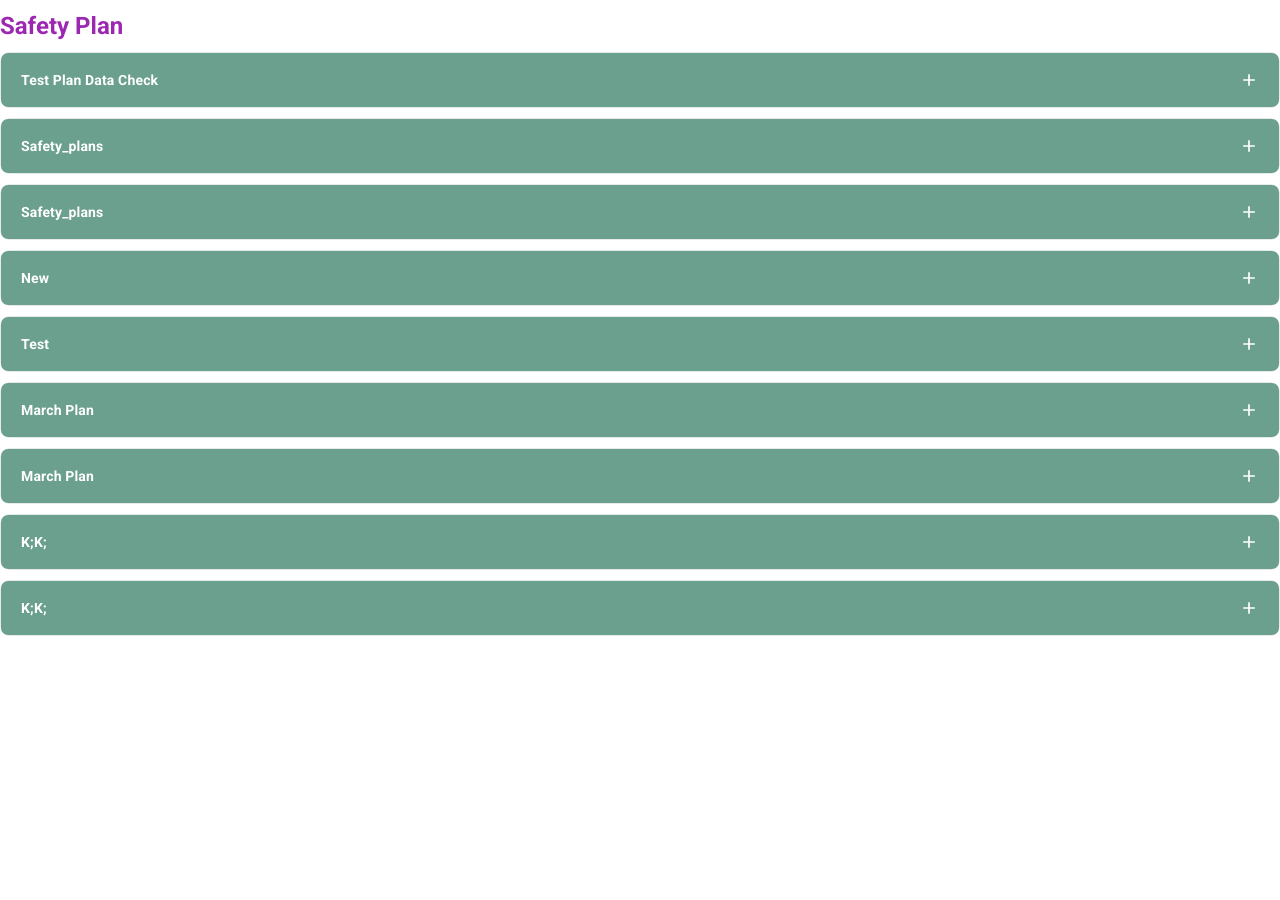
Patient Safety plans › Cancle relapse plan data
Click the icon with test id "toggleContent" in the row of "Test Plan Data check": {"x": 1249, "y": 80} [1239,70,1259,90]
(page scrolled)
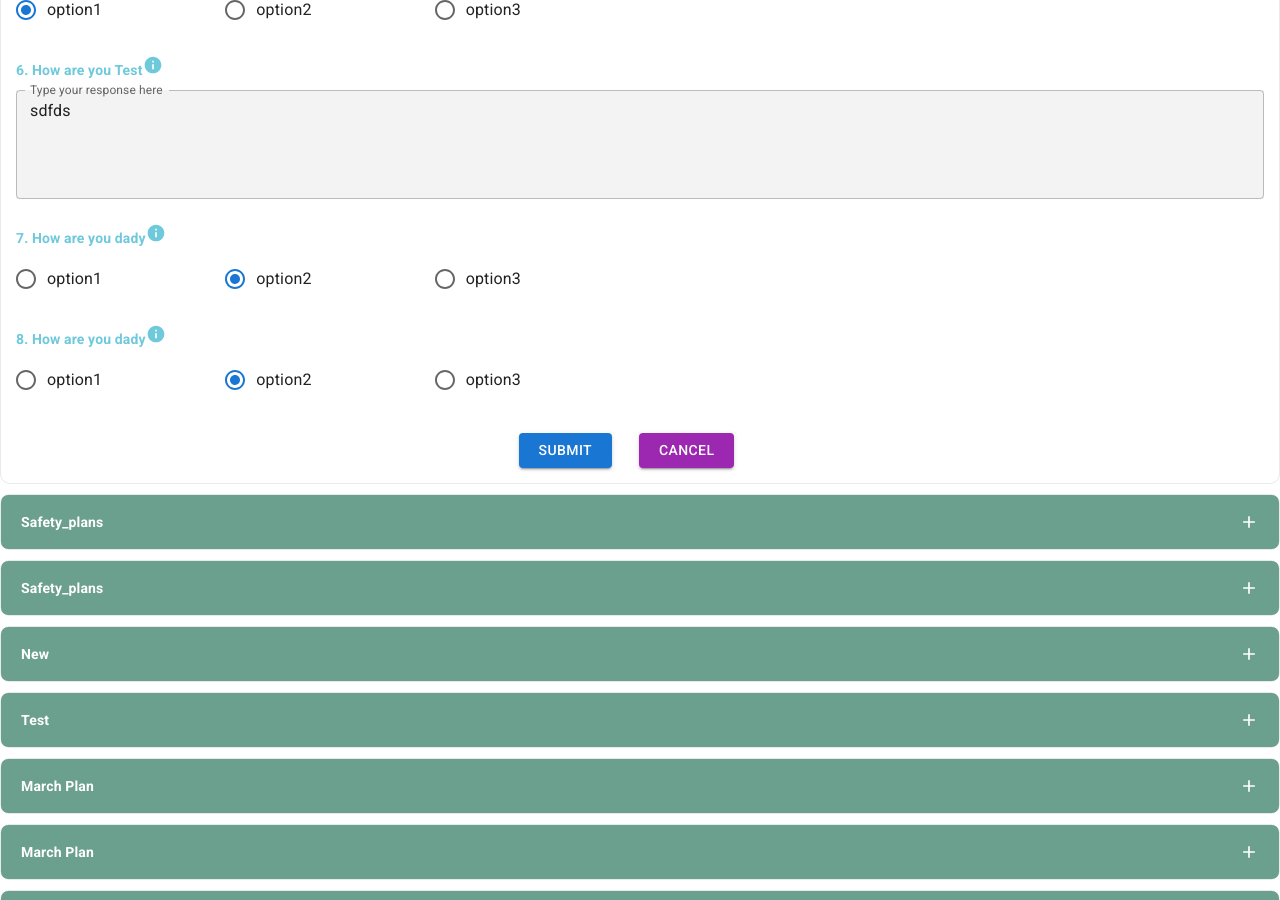
Expected: the button with test id "cancel-form" is shown
Click the button with test id "cancel-form": {"x": 687, "y": 450} [639,433,734,468]
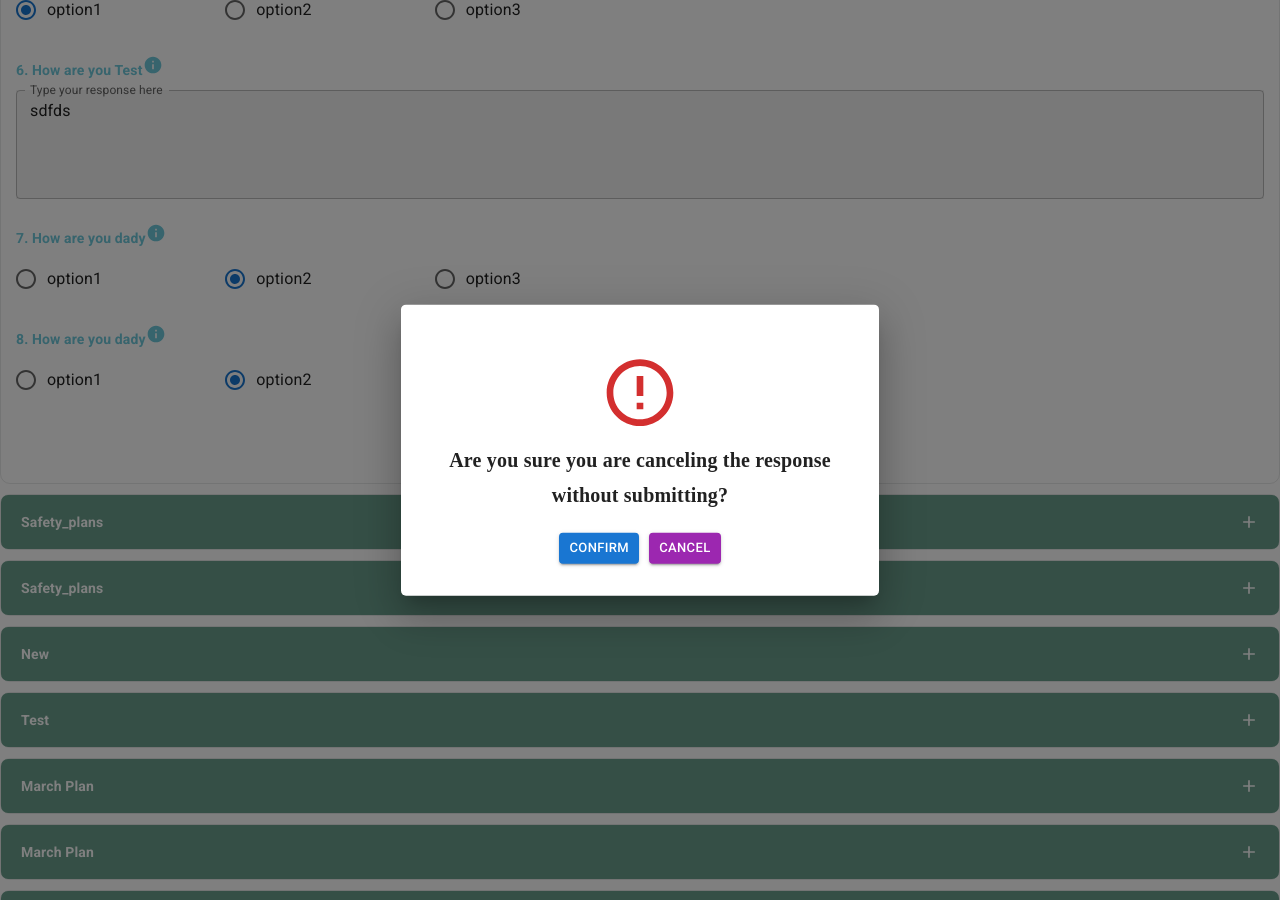
Expected: the heading "Are you sure you are canceling the response without submitting?" is shown, [433,443,847,513]
Click the button with test id "confirmButton": {"x": 599, "y": 548} [560,533,639,563]
(page scrolled)
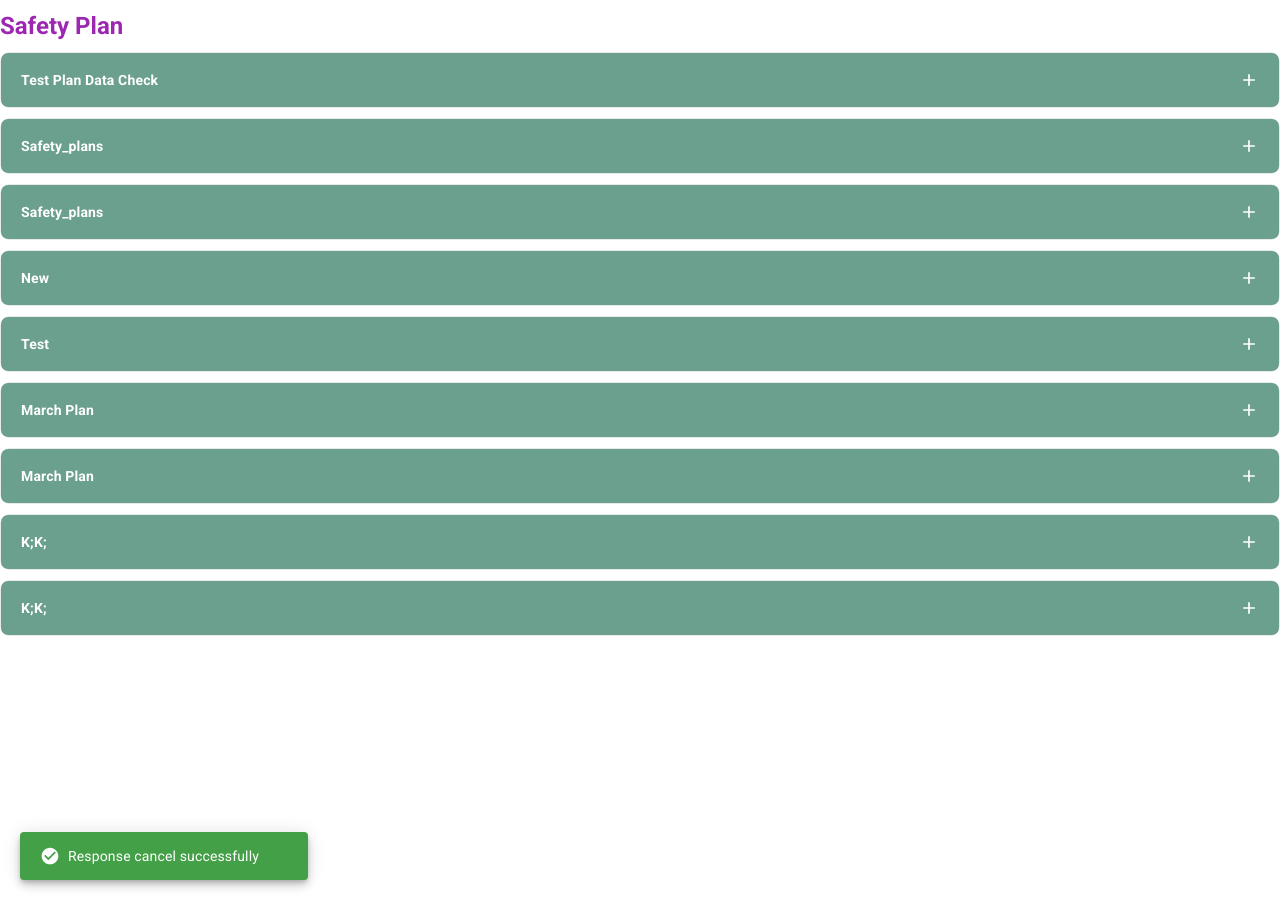
Expected: the text "Response cancel successfully" is shown, [40,846,259,866]
